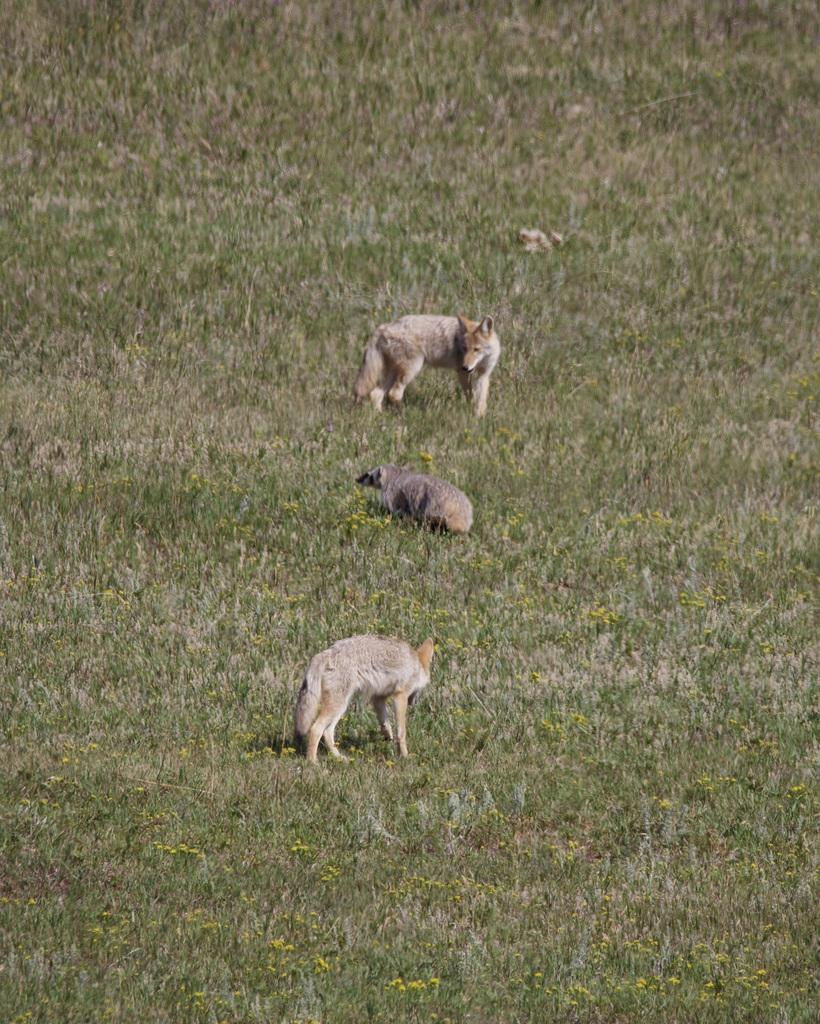Coyote: (279, 624, 444, 770), (349, 310, 504, 431)
